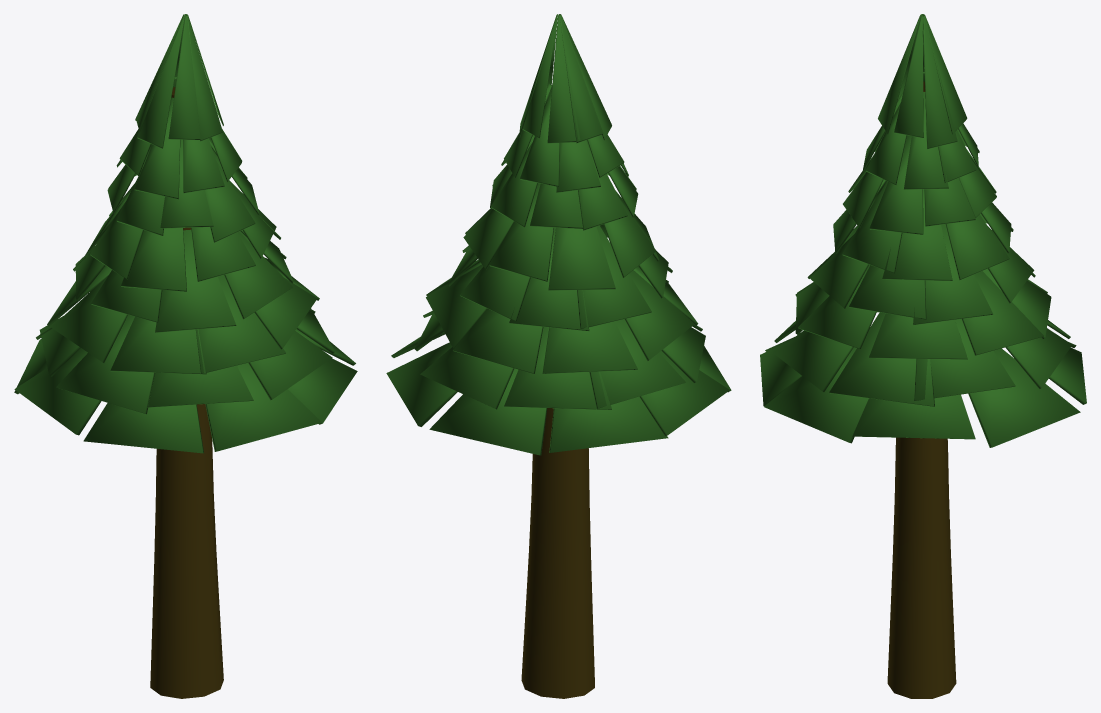
The model's file is tree.glb.
3 views of the same model, side by side, from view 1: azimuth 30°, elevation 25°; view 2: azimuth 150°, elevation 25°; view 3: azimuth 270°, elevation 25° (orthographic).
Visible parts, largest first — view 1: Cylinder; view 2: Cylinder; view 3: Cylinder.
Part boxes in pixels (x1=…): Cylinder: x1=14, y1=14, x2=357, y2=698; Cylinder: x1=386, y1=14, x2=731, y2=698; Cylinder: x1=760, y1=14, x2=1086, y2=698.
Size of the model in its own units: 0.9668 by 2.19 by 0.9725.
